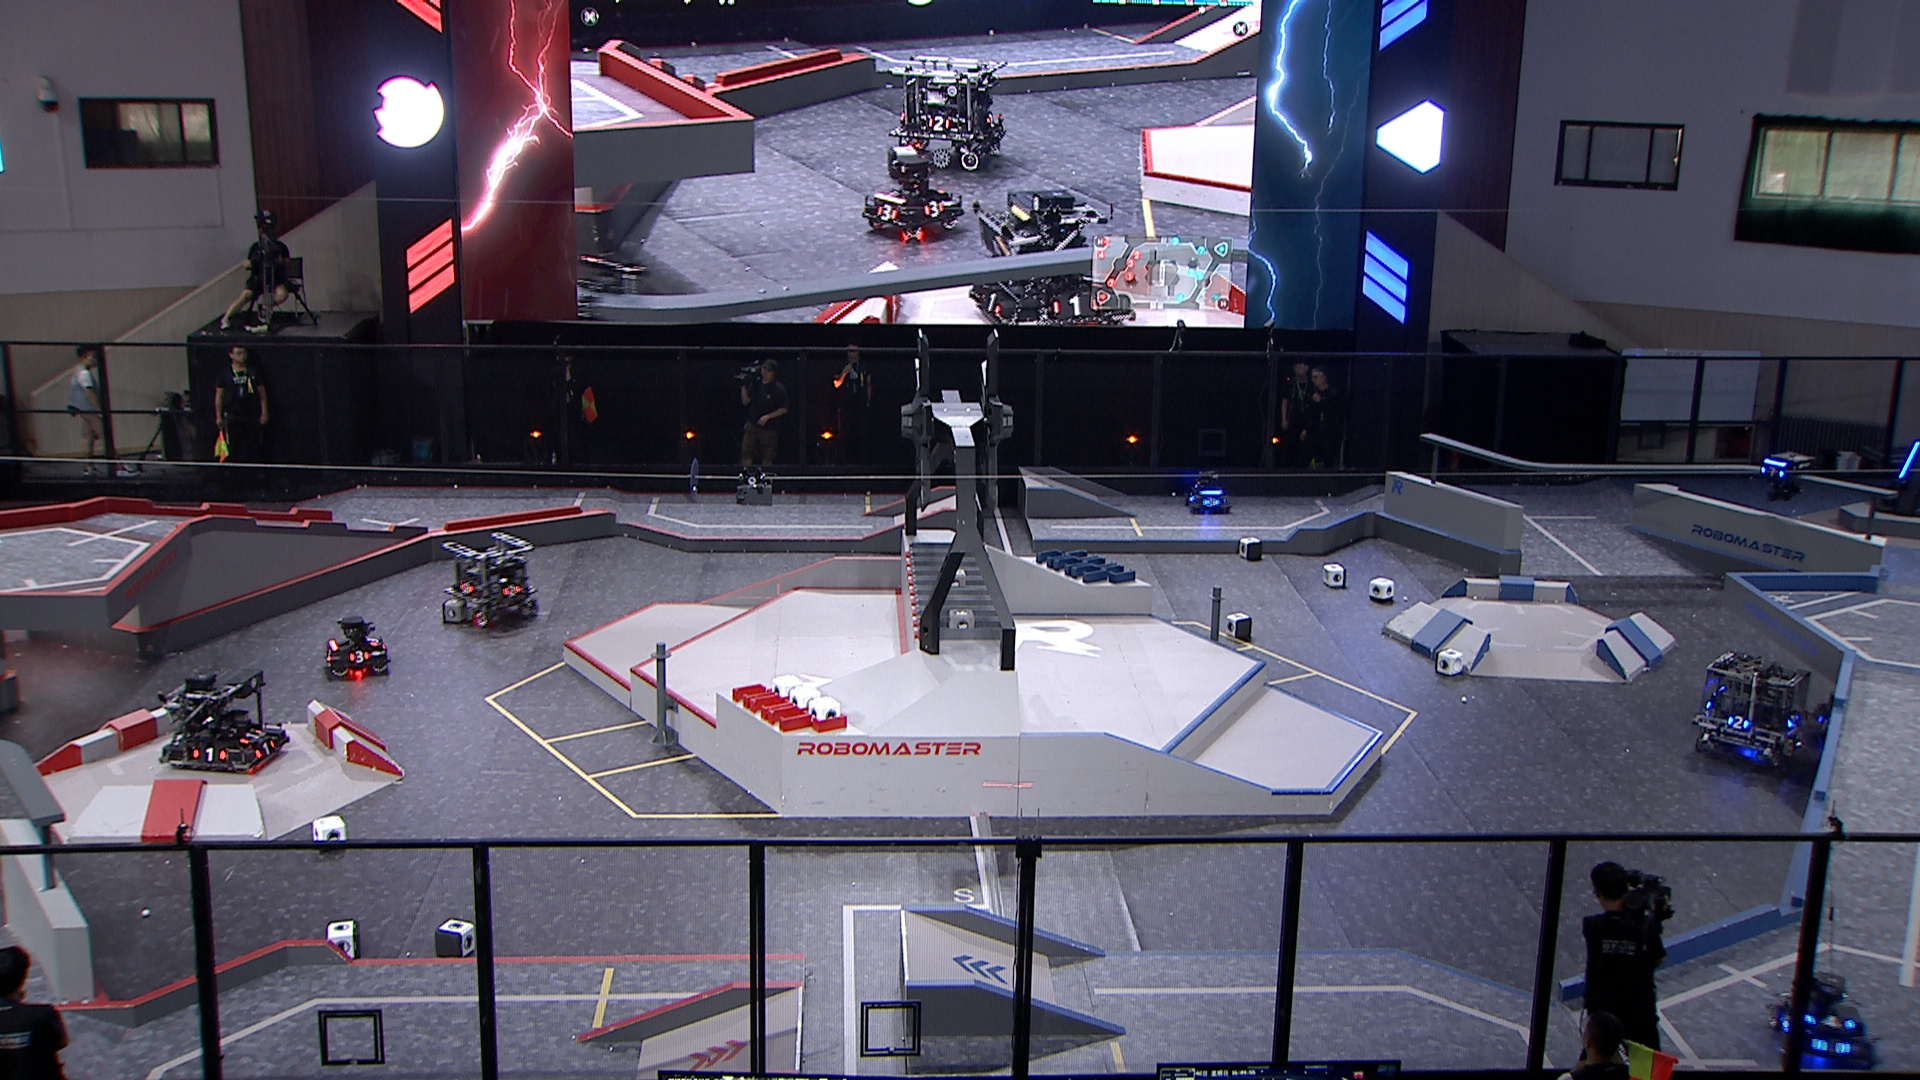armor: (1804, 1010, 1855, 1034), (1898, 440, 1920, 479), (190, 746, 229, 765), (1816, 1038, 1851, 1058), (237, 727, 266, 746), (1726, 713, 1754, 732), (1760, 465, 1788, 480), (256, 741, 277, 760), (1785, 711, 1803, 732), (347, 650, 371, 665), (458, 582, 477, 597), (1817, 713, 1832, 733), (1201, 496, 1222, 509), (502, 584, 520, 600), (363, 636, 381, 650)
base: (1873, 433, 1920, 520)
car: (1693, 647, 1815, 770), (156, 666, 290, 774), (1766, 969, 1883, 1069), (439, 531, 541, 628), (1808, 671, 1899, 760), (324, 615, 392, 678), (1183, 469, 1233, 517)
ignore: (968, 183, 1135, 330), (889, 54, 1010, 171), (860, 142, 965, 243), (576, 251, 651, 324)
watcher: (1760, 452, 1812, 504)
